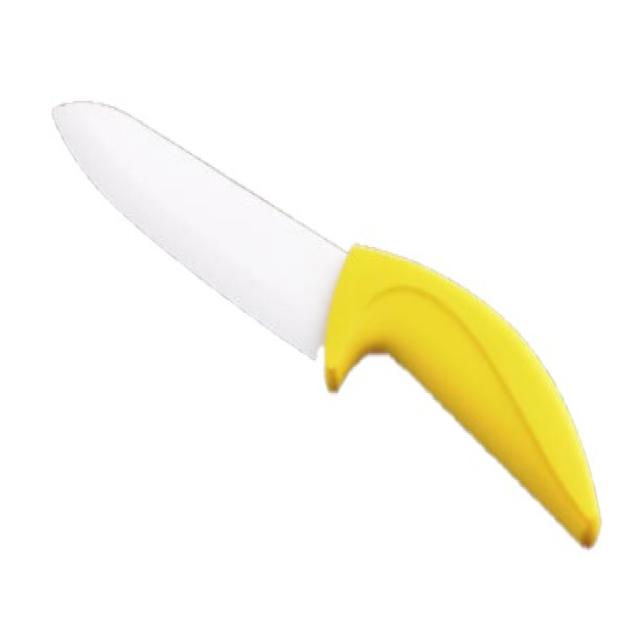knife: (52, 93, 603, 558)
